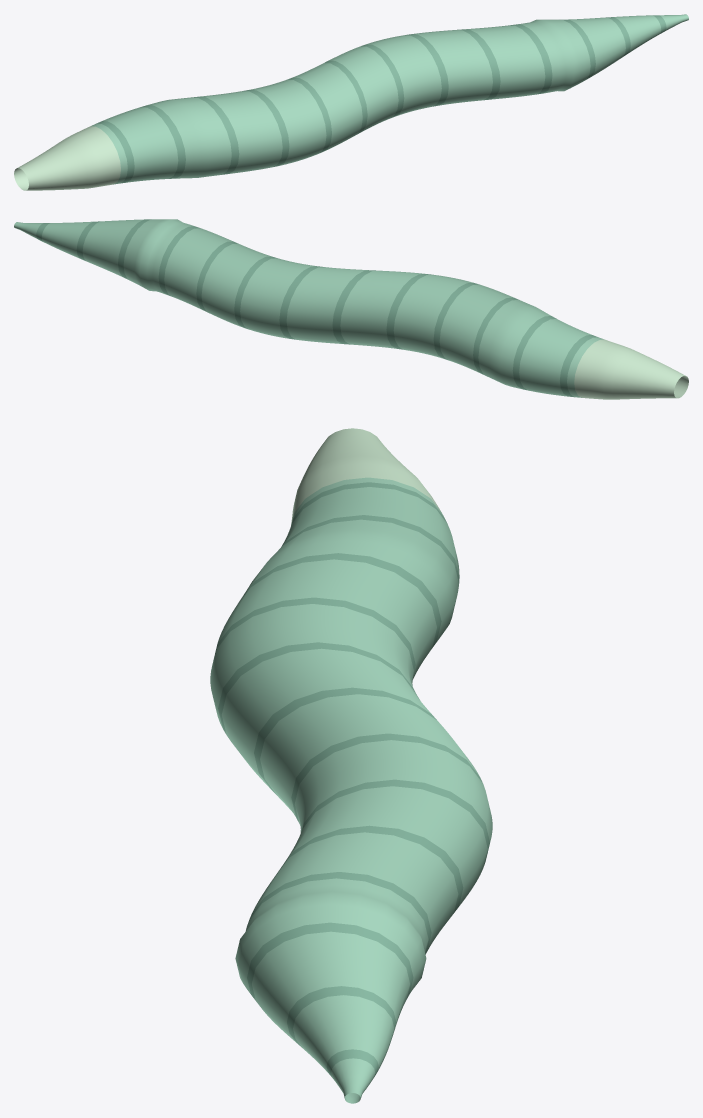
Rendered from celegans-modelled-continuous-presentation-v3_00dd7cb4.glb.
3 views of the same model, one above another, from view 1: azimuth 30°, elevation 25°; view 2: azimuth 150°, elevation 25°; view 3: azimuth 270°, elevation 25° (orthographic). The views are drawn at different scales.
Visible parts, largest first — view 1: celegans_modelled_continuous_body; view 2: celegans_modelled_continuous_body; view 3: celegans_modelled_continuous_body.
Part boxes in pixels (x1,y1,x2,y2): celegans_modelled_continuous_body: (14, 14, 688, 190); celegans_modelled_continuous_body: (14, 219, 688, 399); celegans_modelled_continuous_body: (210, 428, 492, 1103).
Bounding box in the file's own units: 6.65 × 0.6566 × 1.22.
